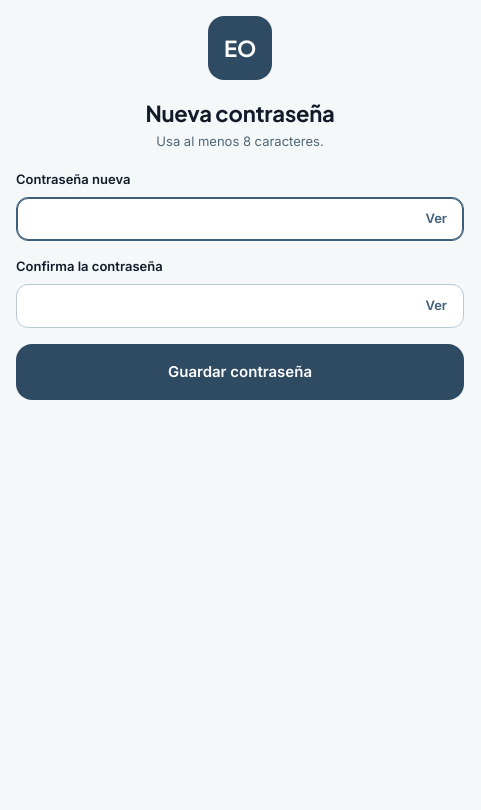
Test: restablecer contraseña (HU07-E3) › envía el token del enlace con la contraseña nueva
The image size is (481, 810).
Type "nueva-clave-1" into the password field labelled "Contraseña nueva" at [213, 219], box [17,198,409,240]
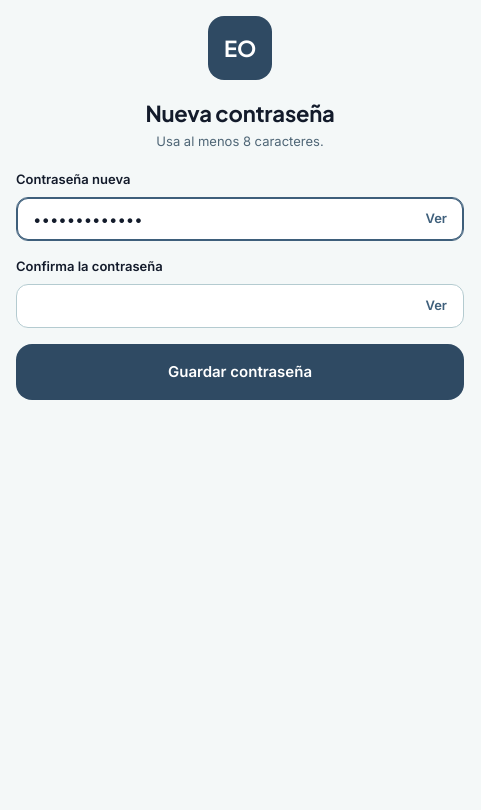
Type "nueva-clave-1" into the password field labelled "Confirma la contraseña" at [213, 306], box [17,285,409,327]
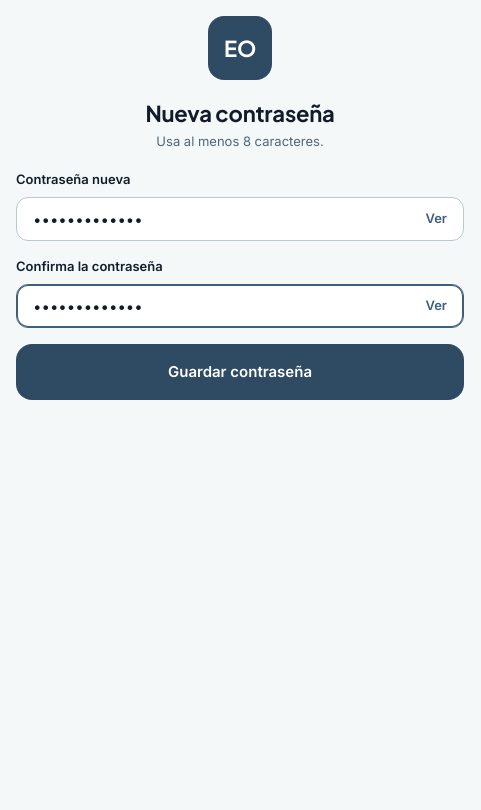
Click the button "Guardar contraseña" at [240, 372], box [16,344,464,400]
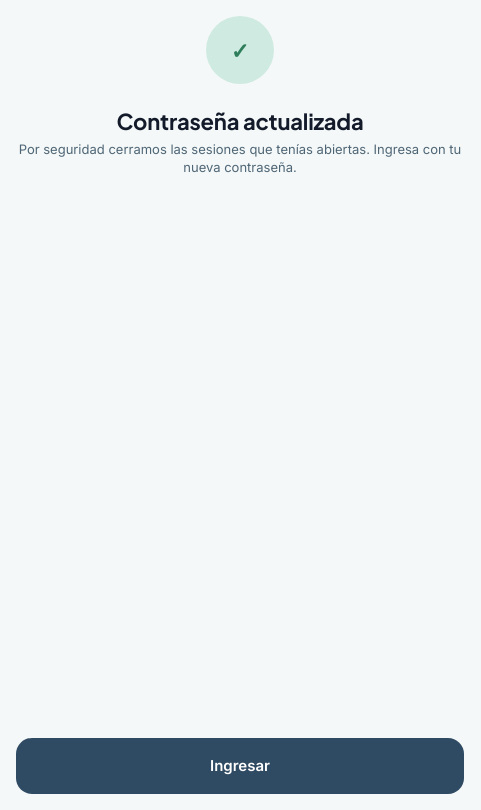
Expected: the heading "Contraseña actualizada" is shown, [116,108,363,136]
